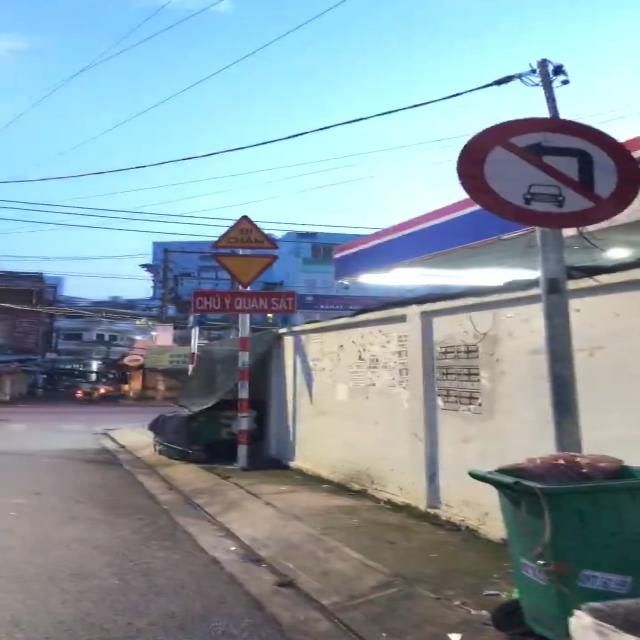Bien bao di cham: (200, 208, 281, 250)
Bien bao giao nhau voi duong uu tien: (200, 249, 292, 286)
